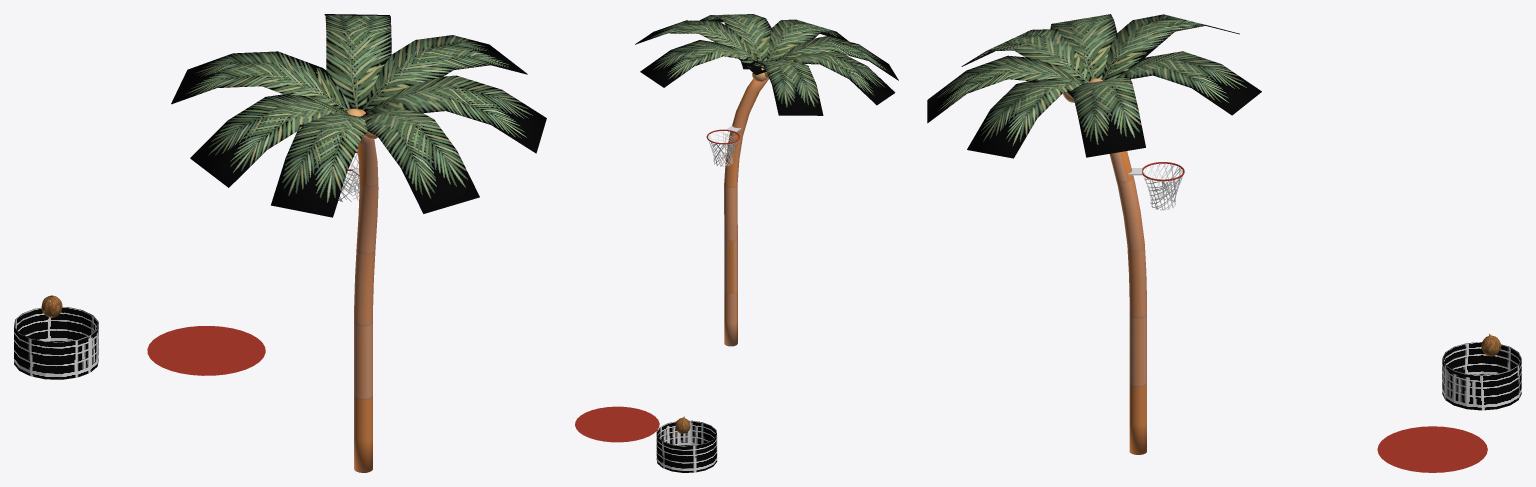
The model's file is CoconutBasketBall.fbx.
The picture shows the model from 3 angles, left to right: view 1: azimuth 30°, elevation 25°; view 2: azimuth 150°, elevation 25°; view 3: azimuth 270°, elevation 25°; orthographic projection. The views are drawn at different scales.
Parts seen in each view (by area): view 1: Cylinder.003, Plane.029, Plane.030, Plane.031, Plane.035, Plane.032, Cylinder.002, Plane.033, Plane.034, Circle.030; view 2: Cylinder.003, Cylinder.002, Plane.032, Circle.030, Plane.033, Plane.031, Plane.034, Plane.029, Plane.035, Plane.030, Circle.029; view 3: Cylinder.003, Cylinder.002, Plane.034, Plane.035, Circle.030, Plane.033, Plane.029, Plane.032, Plane.030, Plane.031, Circle.029.
Part boxes in pixels (<box>): Cylinder.003: <box>354,109,378,472</box>; Plane.029: <box>360,109,479,213</box>; Plane.030: <box>271,113,367,217</box>; Plane.031: <box>190,94,349,187</box>; Plane.035: <box>364,75,546,153</box>; Plane.032: <box>171,51,353,110</box>; Cylinder.002: <box>14,306,98,379</box>; Plane.033: <box>324,14,391,109</box>; Plane.034: <box>362,35,527,111</box>; Circle.030: <box>147,326,265,375</box>; Cylinder.003: <box>724,78,768,346</box>; Cylinder.002: <box>656,420,717,472</box>; Plane.032: <box>743,61,823,115</box>; Circle.030: <box>575,406,659,442</box>; Plane.033: <box>640,40,765,87</box>; Plane.031: <box>756,51,895,105</box>; Plane.034: <box>635,20,761,74</box>; Plane.029: <box>766,19,848,61</box>; Plane.035: <box>700,14,771,69</box>; Plane.030: <box>775,36,898,80</box>; Circle.029: <box>708,131,738,166</box>; Cylinder.003: <box>1109,151,1146,454</box>; Cylinder.002: <box>1442,342,1521,410</box>; Plane.034: <box>1068,77,1145,157</box>; Plane.035: <box>967,79,1080,158</box>; Circle.030: <box>1377,426,1487,472</box>; Plane.033: <box>1115,51,1261,115</box>; Plane.029: <box>927,55,1086,123</box>; Plane.032: <box>1101,14,1239,80</box>; Plane.030: <box>961,29,1091,97</box>; Plane.031: <box>1050,14,1117,78</box>; Circle.029: <box>1143,164,1182,210</box>.
Size of the model in its own units: 6.33 by 7.87 by 10.77.
7 materials, 5 textured.
